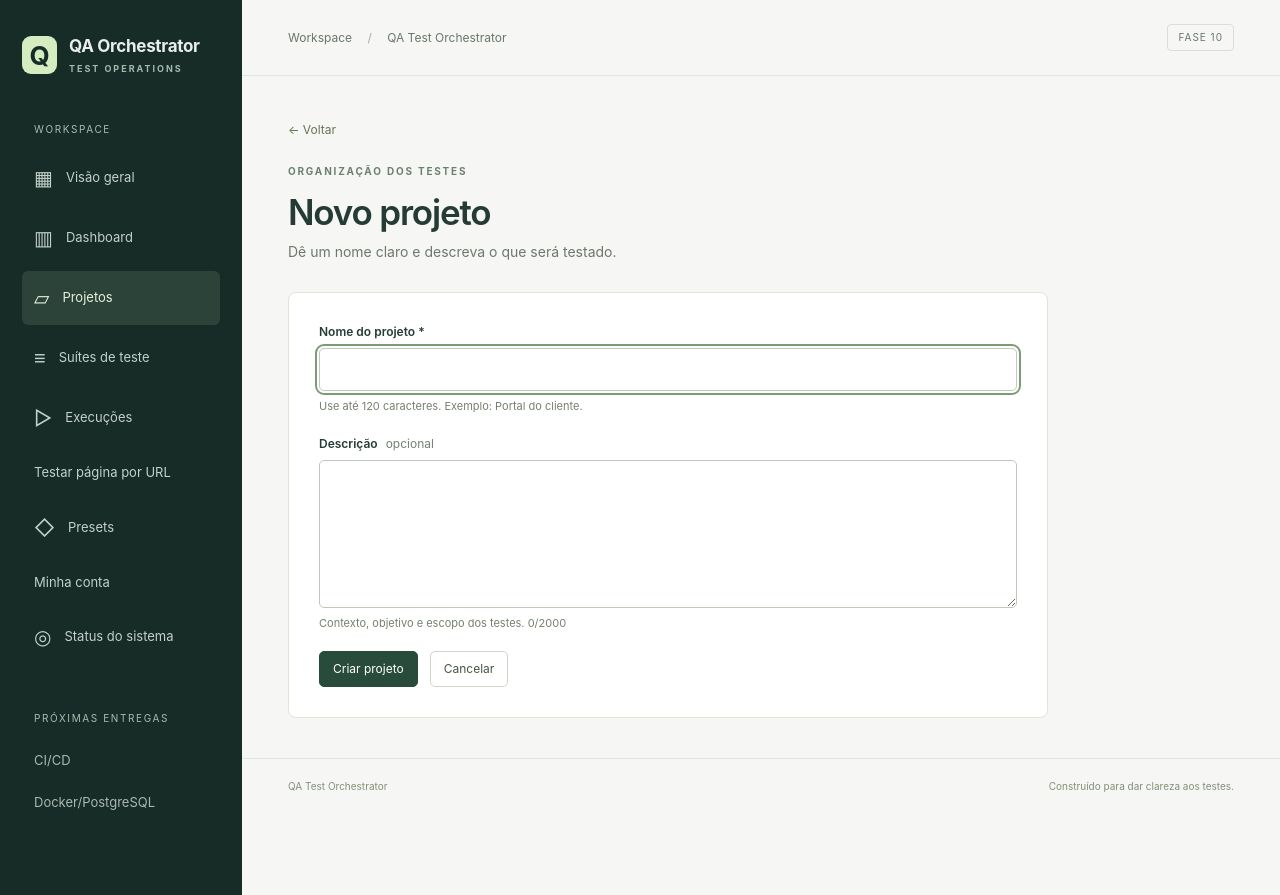
Test case: Projetos › cria e abre o detalhe com os dados salvos
In the field labelled "Nome do projeto *": (668, 370) [319,348,1017,391], type " Portal cliente "
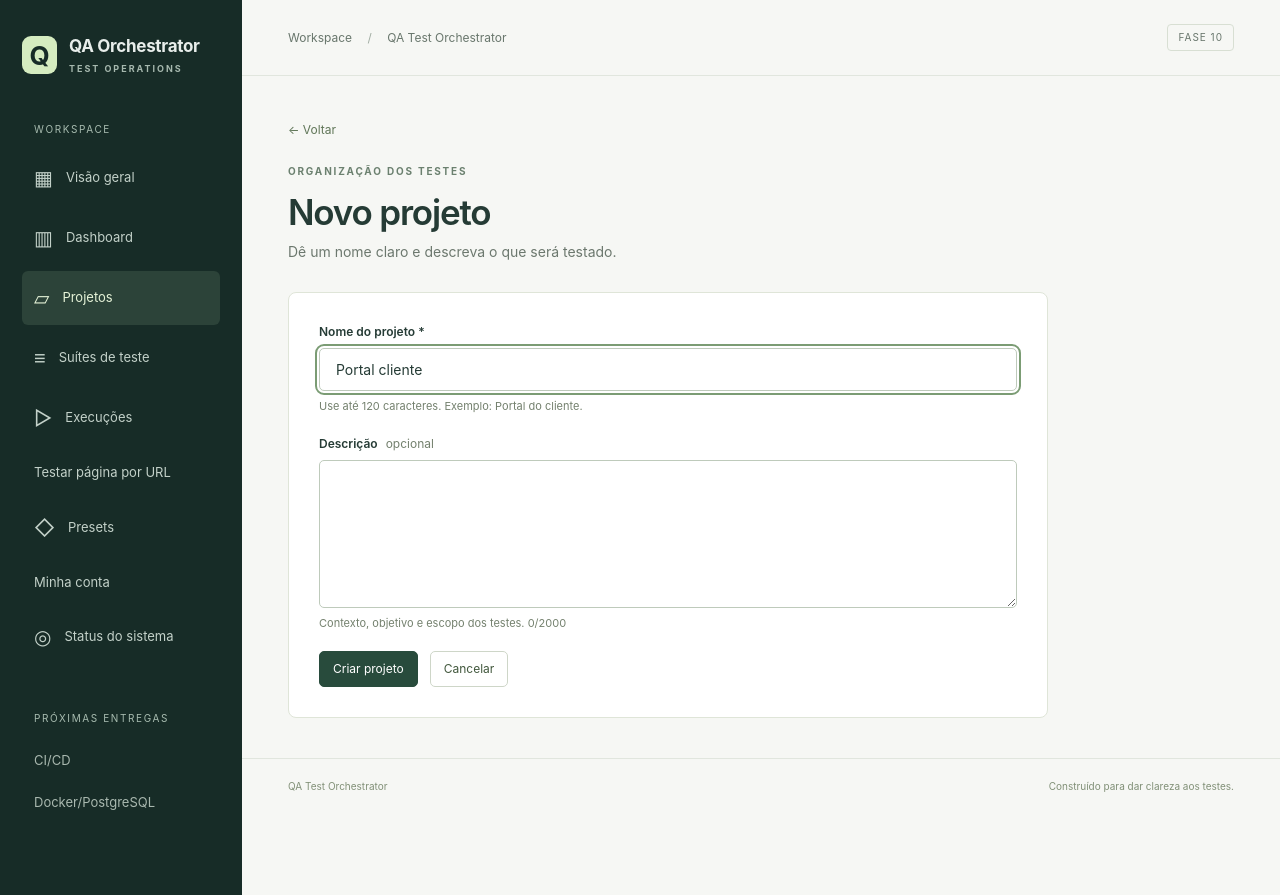
In the text box labelled "Descrição opcional": (668, 534) [319,460,1017,608], type "Área do cliente"
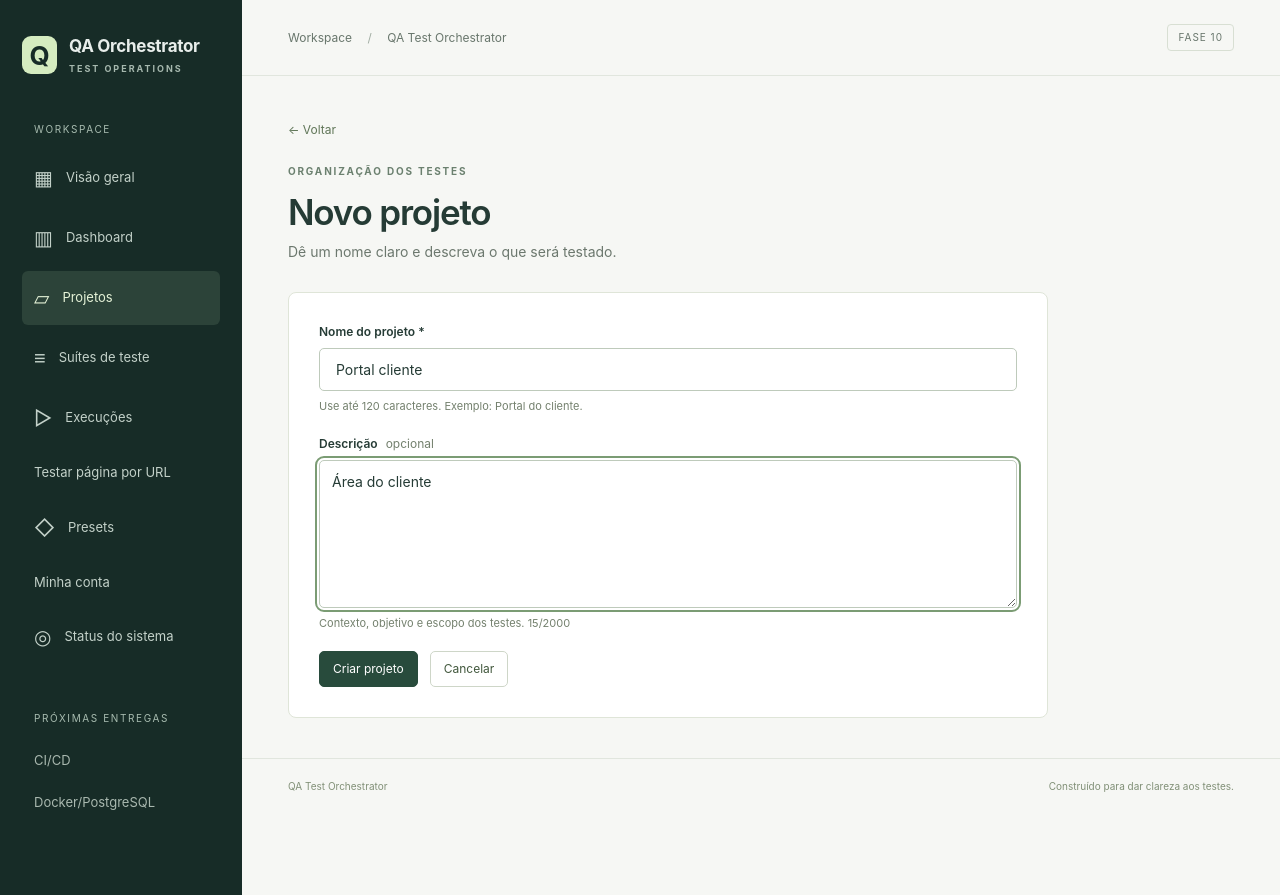
Click the button "Criar projeto": (368, 669) [319,651,418,687]
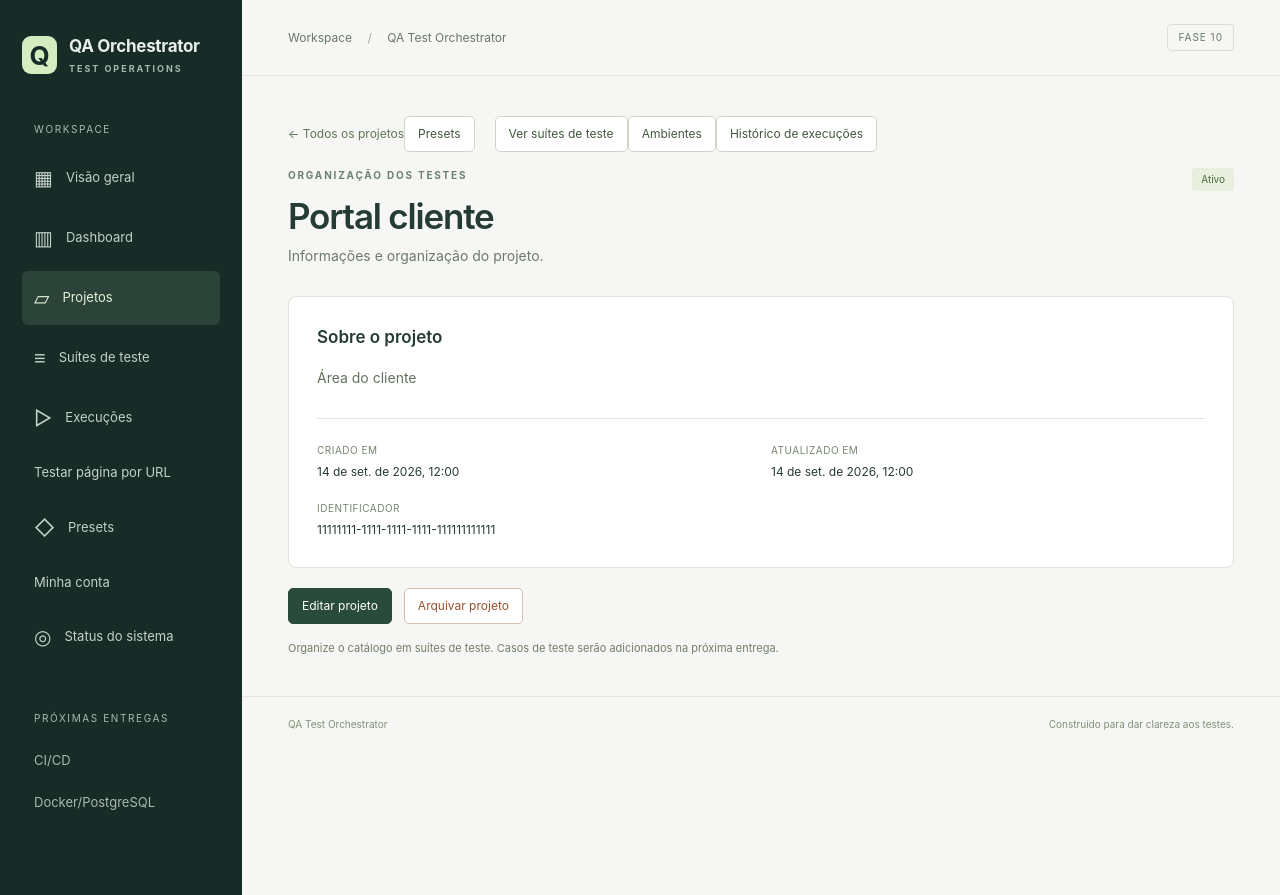
Expected: the heading "Portal cliente" is shown, [288,195,494,237]
